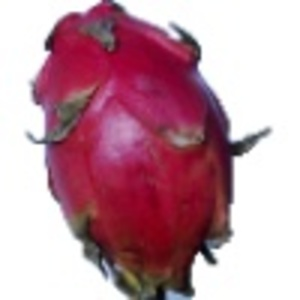pitaia: (27, 1, 270, 300)
